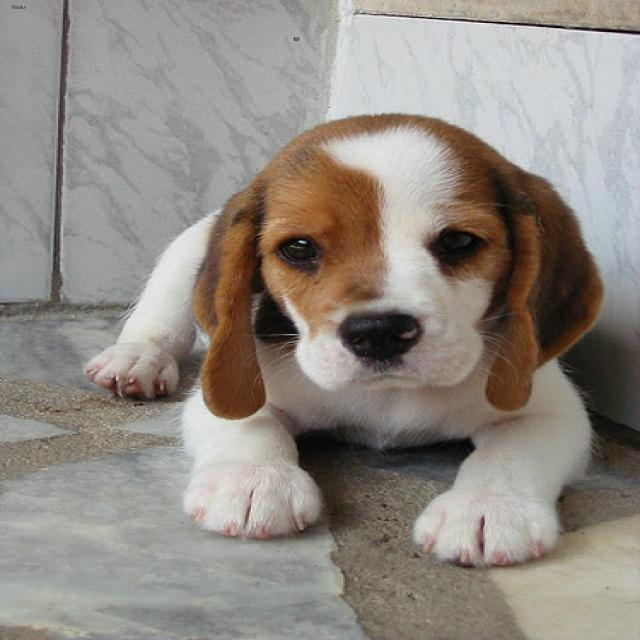dog-beagle: (73, 108, 625, 579)
